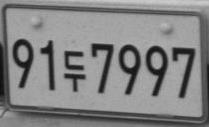1: (38, 39, 61, 90)
7: (172, 46, 196, 99), (91, 43, 115, 93)
9: (117, 43, 141, 94), (144, 45, 168, 96), (11, 38, 34, 88)
두: (63, 50, 87, 92)
